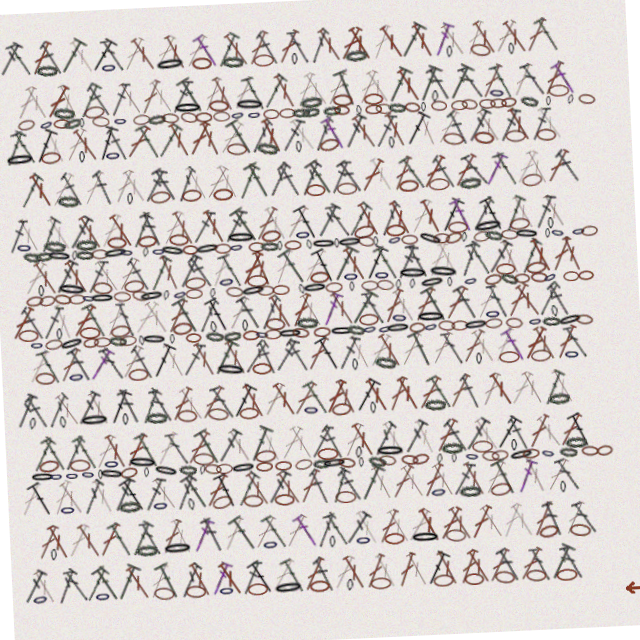chain: (477, 226, 508, 242), (58, 270, 89, 286), (421, 235, 447, 253), (167, 50, 198, 65), (430, 270, 461, 285), (213, 358, 244, 373), (13, 139, 43, 153), (121, 447, 151, 461), (261, 579, 291, 593), (58, 324, 84, 340), (245, 95, 275, 108), (400, 271, 430, 284), (557, 324, 583, 339), (75, 403, 105, 416), (146, 456, 172, 471), (152, 535, 182, 548), (203, 489, 225, 506), (264, 138, 287, 154), (357, 226, 380, 242), (163, 237, 189, 251), (502, 457, 528, 471), (183, 96, 213, 108), (230, 228, 260, 240), (416, 316, 446, 328), (369, 448, 399, 460), (400, 536, 430, 548), (482, 50, 504, 66), (528, 534, 550, 550), (372, 358, 395, 373), (106, 237, 132, 250), (198, 237, 224, 250), (242, 281, 268, 294), (421, 281, 447, 294), (327, 138, 349, 153), (451, 138, 473, 153), (203, 402, 225, 417), (482, 490, 504, 505), (357, 50, 380, 64), (310, 95, 333, 109), (465, 183, 488, 197), (47, 227, 70, 241), (482, 138, 503, 153), (32, 446, 53, 461), (482, 578, 503, 593), (140, 282, 166, 294), (559, 535, 581, 549), (50, 238, 75, 250), (501, 280, 521, 295), (463, 326, 488, 338), (92, 458, 117, 470), (224, 458, 249, 470), (94, 95, 115, 109), (156, 183, 177, 197), (528, 183, 549, 197), (265, 227, 286, 241), (94, 271, 115, 285), (528, 271, 549, 285), (110, 315, 131, 329), (172, 315, 193, 329), (265, 315, 286, 329), (327, 403, 348, 417), (141, 579, 162, 593), (63, 95, 85, 108), (63, 183, 85, 196), (544, 403, 566, 416), (110, 491, 132, 504), (72, 105, 92, 119), (341, 238, 366, 249), (518, 238, 543, 249), (304, 282, 329, 293), (141, 326, 166, 337), (385, 326, 410, 337), (315, 458, 340, 469), (141, 227, 162, 240), (187, 271, 208, 284), (187, 447, 208, 460), (249, 447, 270, 460), (435, 535, 456, 548), (448, 237, 467, 251), (361, 457, 380, 471), (48, 52, 70, 64), (234, 52, 256, 64), (79, 228, 101, 240), (296, 316, 318, 328), (141, 404, 163, 416), (420, 404, 442, 416), (435, 448, 457, 460), (559, 448, 581, 460), (451, 492, 473, 504), (125, 536, 147, 548), (219, 95, 239, 108), (343, 95, 363, 108), (49, 139, 69, 152), (235, 139, 255, 152), (514, 139, 534, 152), (545, 139, 565, 152), (188, 183, 208, 196), (111, 227, 131, 240), (173, 227, 193, 240), (514, 227, 534, 240), (126, 271, 146, 284), (312, 271, 332, 284), (33, 359, 53, 372), (173, 403, 193, 416), (235, 491, 255, 504), (173, 579, 193, 592), (514, 579, 534, 592), (559, 96, 580, 108), (435, 184, 456, 196), (249, 272, 270, 284), (79, 316, 100, 328), (497, 360, 518, 372), (63, 448, 84, 460), (311, 448, 332, 460), (466, 448, 487, 460), (327, 492, 348, 504), (358, 580, 379, 592), (544, 580, 565, 592), (315, 239, 340, 249), (91, 283, 116, 293), (277, 327, 302, 337), (329, 327, 354, 337), (23, 459, 48, 469), (530, 105, 549, 118), (488, 237, 507, 250), (346, 325, 365, 338), (204, 52, 224, 64), (266, 52, 286, 64), (374, 96, 394, 108), (219, 184, 239, 196), (312, 184, 332, 196), (343, 184, 363, 196), (405, 184, 425, 196), (390, 228, 410, 240), (452, 228, 472, 240), (498, 272, 518, 284), (18, 316, 38, 328), (359, 316, 379, 328), (126, 360, 146, 372), (250, 360, 270, 372), (529, 360, 549, 372), (235, 404, 255, 416), (266, 492, 286, 504), (374, 536, 394, 548), (235, 580, 255, 592), (297, 580, 317, 592), (421, 580, 441, 592), (452, 580, 472, 592), (19, 579, 36, 593), (27, 105, 45, 118), (190, 105, 208, 118), (361, 237, 379, 250), (55, 281, 73, 294), (133, 281, 151, 294), (486, 281, 504, 294), (113, 457, 131, 470), (288, 457, 306, 470), (372, 457, 390, 470), (405, 457, 423, 470), (157, 106, 176, 118), (311, 106, 330, 118), (26, 238, 45, 250), (222, 326, 241, 338), (48, 105, 64, 119), (544, 281, 560, 295), (499, 95, 516, 108), (471, 105, 488, 118), (220, 271, 237, 284), (391, 315, 408, 328), (422, 491, 439, 504), (385, 106, 403, 118), (588, 106, 606, 118), (477, 238, 495, 250), (27, 282, 45, 294), (227, 282, 245, 294), (378, 282, 396, 294), (44, 326, 62, 338), (291, 326, 309, 338), (505, 326, 523, 338), (575, 326, 593, 338), (197, 458, 215, 470), (331, 458, 349, 470), (394, 458, 412, 470), (475, 458, 493, 470), (66, 359, 82, 372), (299, 403, 315, 416), (414, 106, 431, 118), (40, 282, 57, 294), (82, 326, 99, 338), (171, 106, 189, 117), (333, 106, 351, 117), (398, 106, 416, 117), (38, 238, 56, 249), (532, 282, 550, 293), (108, 326, 126, 337), (205, 326, 223, 337), (172, 458, 190, 469), (306, 458, 324, 469), (553, 458, 571, 469), (391, 237, 406, 250), (113, 52, 129, 64), (113, 140, 129, 152), (20, 228, 36, 240), (299, 228, 315, 240), (345, 272, 361, 284), (376, 272, 392, 284), (485, 316, 501, 328), (562, 360, 578, 372), (97, 448, 113, 460), (51, 492, 67, 504), (144, 492, 160, 504), (252, 536, 268, 548), (345, 536, 361, 548), (82, 580, 98, 592), (206, 580, 222, 592), (102, 106, 119, 117), (143, 106, 160, 117), (505, 238, 522, 249), (585, 238, 602, 249), (115, 282, 132, 293), (119, 326, 136, 337), (438, 326, 455, 337), (485, 326, 502, 337), (485, 458, 502, 469), (516, 458, 533, 469), (575, 458, 592, 469), (590, 458, 607, 469), (302, 107, 320, 117), (79, 239, 97, 249), (264, 239, 282, 249), (554, 238, 569, 250), (174, 282, 189, 294), (465, 282, 480, 294), (254, 326, 269, 338), (377, 326, 392, 338), (423, 326, 438, 338), (542, 327, 560, 337), (534, 458, 549, 470), (344, 106, 360, 117), (441, 106, 457, 117), (511, 106, 527, 117), (63, 107, 80, 117), (205, 107, 222, 117), (223, 107, 240, 117), (289, 107, 306, 117), (375, 107, 392, 117), (461, 107, 478, 117), (489, 107, 506, 117), (500, 107, 517, 117), (95, 239, 112, 249), (218, 239, 235, 249), (252, 239, 269, 249), (288, 239, 305, 249), (405, 239, 422, 249), (437, 239, 454, 249), (70, 283, 87, 293), (187, 283, 204, 293), (259, 283, 276, 293), (274, 283, 291, 293), (327, 283, 344, 293), (363, 283, 380, 293), (93, 327, 110, 337), (242, 327, 259, 337), (264, 327, 281, 337), (313, 327, 330, 337), (451, 327, 468, 337), (209, 459, 226, 469), (249, 459, 266, 469), (268, 459, 285, 469), (240, 106, 255, 117), (575, 238, 590, 249), (362, 326, 377, 337), (458, 458, 473, 469), (273, 107, 289, 117), (186, 239, 202, 249), (516, 283, 532, 293), (565, 283, 581, 293), (580, 283, 596, 293), (185, 327, 201, 337), (409, 327, 425, 337), (123, 238, 137, 249), (233, 238, 247, 249), (83, 282, 97, 293), (528, 326, 542, 337), (74, 458, 88, 469), (123, 107, 137, 117), (257, 107, 271, 117), (155, 239, 169, 249), (29, 327, 43, 337), (42, 459, 56, 469), (58, 459, 72, 469), (551, 316, 559, 328), (24, 404, 32, 416), (179, 492, 187, 504), (442, 96, 449, 108), (210, 316, 217, 328), (55, 404, 62, 416), (349, 448, 356, 460), (334, 580, 341, 592), (577, 106, 584, 117), (304, 52, 310, 64), (459, 52, 465, 64), (521, 52, 527, 64), (87, 140, 93, 152), (304, 140, 310, 152), (397, 140, 403, 152), (133, 184, 139, 196), (552, 228, 558, 240), (40, 272, 46, 284), (56, 316, 62, 328), (242, 316, 248, 328), (350, 360, 356, 372), (474, 360, 480, 372), (118, 404, 124, 416), (366, 404, 372, 416), (505, 448, 511, 460), (552, 492, 558, 504), (40, 536, 46, 548), (319, 536, 325, 548), (164, 283, 171, 293), (300, 283, 307, 293), (192, 459, 199, 469), (366, 107, 372, 117), (75, 239, 81, 249), (146, 239, 152, 249), (310, 239, 316, 249), (465, 239, 471, 249), (211, 283, 217, 293), (397, 283, 403, 293), (411, 283, 417, 293), (138, 327, 144, 337), (430, 459, 436, 469), (89, 107, 94, 117), (431, 107, 436, 117), (556, 107, 561, 117), (281, 239, 286, 249), (338, 239, 343, 249), (377, 239, 382, 249), (549, 239, 554, 249), (351, 283, 356, 293), (449, 283, 454, 293), (169, 327, 174, 337), (91, 459, 96, 469), (137, 459, 142, 469), (352, 459, 357, 469), (445, 459, 450, 469)
double: (69, 26, 101, 65), (311, 158, 343, 197), (234, 202, 266, 241), (280, 246, 312, 285), (172, 466, 204, 505), (218, 510, 250, 549), (79, 554, 111, 593), (100, 27, 132, 65), (348, 291, 380, 329), (486, 423, 518, 461), (410, 26, 441, 65), (187, 70, 218, 109), (456, 70, 487, 109), (234, 114, 265, 153), (332, 246, 363, 285), (172, 290, 203, 329), (208, 334, 239, 373), (348, 379, 379, 417), (110, 467, 141, 505), (234, 555, 265, 593), (395, 70, 425, 109), (250, 158, 280, 197), (421, 290, 451, 329), (188, 422, 218, 461), (349, 466, 379, 505), (535, 554, 565, 593), (162, 115, 193, 152), (411, 115, 441, 153), (312, 335, 342, 373), (225, 379, 255, 417), (18, 467, 48, 505), (426, 70, 455, 109), (240, 422, 269, 461), (483, 466, 512, 505), (101, 554, 130, 593), (142, 554, 171, 593), (349, 203, 379, 240), (297, 203, 326, 241), (442, 203, 471, 241), (364, 247, 393, 285), (204, 291, 233, 329), (147, 335, 176, 373), (411, 555, 440, 593), (406, 334, 434, 373), (132, 116, 162, 152), (225, 116, 255, 152), (297, 116, 327, 152), (132, 292, 162, 328), (514, 292, 544, 328), (529, 424, 559, 460), (333, 512, 363, 548), (18, 27, 47, 64), (271, 71, 300, 108), (23, 159, 52, 196), (405, 159, 434, 196), (23, 423, 52, 460), (250, 511, 279, 548), (70, 555, 99, 592), (40, 115, 68, 153), (484, 203, 512, 241), (313, 247, 341, 285), (102, 379, 130, 417), (561, 423, 589, 461), (344, 70, 371, 109), (142, 28, 171, 64), (235, 28, 264, 64), (452, 28, 481, 64), (514, 28, 543, 64), (54, 72, 83, 108), (80, 116, 109, 152), (359, 116, 388, 152), (545, 116, 574, 152), (209, 160, 238, 196), (343, 160, 372, 196), (95, 248, 124, 284), (488, 248, 517, 284), (70, 292, 99, 328), (85, 336, 114, 372), (49, 380, 78, 416), (173, 380, 202, 416), (287, 380, 316, 416), (504, 380, 533, 416), (178, 424, 207, 460), (209, 424, 238, 460), (457, 424, 486, 460), (467, 424, 496, 460), (49, 468, 78, 504), (142, 468, 171, 504), (395, 512, 424, 548), (204, 556, 233, 592), (9, 27, 37, 64), (81, 27, 109, 64), (164, 27, 192, 64), (195, 27, 223, 64), (205, 27, 233, 64), (226, 27, 254, 64), (329, 27, 357, 64), (350, 27, 378, 64), (391, 27, 419, 64), (484, 27, 512, 64), (505, 27, 533, 64), (546, 27, 574, 64), (86, 71, 114, 108), (127, 71, 155, 108), (158, 71, 186, 108), (313, 71, 341, 108), (375, 71, 403, 108), (406, 71, 434, 108), (561, 71, 589, 108), (19, 115, 47, 152), (443, 115, 471, 152), (474, 115, 502, 152), (484, 115, 512, 152), (127, 159, 155, 196), (158, 159, 186, 196), (427, 159, 455, 196), (458, 159, 486, 196), (499, 159, 527, 196), (520, 159, 548, 196), (551, 159, 579, 196), (50, 203, 78, 240), (81, 203, 109, 240), (112, 203, 140, 240), (257, 203, 285, 240), (288, 203, 316, 240), (319, 203, 347, 240), (412, 203, 440, 240), (24, 247, 52, 284), (34, 247, 62, 284), (65, 247, 93, 284), (117, 247, 145, 284), (148, 247, 176, 284), (241, 247, 269, 284), (303, 247, 331, 284), (468, 247, 496, 284), (9, 291, 37, 328), (143, 291, 171, 328), (236, 291, 264, 328), (267, 291, 295, 328), (329, 291, 357, 328), (443, 291, 471, 328), (453, 291, 481, 328), (117, 335, 145, 372), (365, 335, 393, 372), (458, 335, 486, 372), (468, 335, 496, 372), (520, 335, 548, 372), (195, 379, 223, 416), (257, 379, 285, 416), (267, 379, 295, 416), (298, 379, 326, 416), (422, 379, 450, 416), (484, 379, 512, 416), (65, 423, 93, 460), (220, 423, 248, 460), (272, 423, 300, 460), (396, 423, 424, 460), (427, 423, 455, 460), (551, 423, 579, 460), (195, 467, 223, 504), (226, 467, 254, 504), (236, 467, 264, 504), (257, 467, 285, 504), (381, 467, 409, 504), (391, 467, 419, 504), (536, 467, 564, 504), (65, 511, 93, 548), (117, 511, 145, 548), (241, 511, 269, 548), (272, 511, 300, 548), (282, 511, 310, 548), (313, 511, 341, 548), (427, 511, 455, 548), (437, 511, 465, 548), (468, 511, 496, 548), (499, 511, 527, 548), (257, 555, 285, 592), (453, 555, 481, 592), (505, 555, 533, 592), (143, 115, 170, 153), (241, 159, 268, 197), (133, 203, 160, 241), (220, 247, 247, 285), (375, 247, 402, 285), (520, 247, 547, 285), (81, 291, 108, 329), (34, 335, 61, 373), (536, 379, 563, 417), (127, 423, 154, 461), (205, 467, 232, 505), (96, 511, 123, 549), (267, 555, 294, 593), (55, 160, 83, 196), (365, 160, 393, 196), (71, 204, 99, 240), (412, 380, 440, 416), (267, 468, 295, 504), (112, 556, 140, 592), (133, 27, 160, 64), (288, 27, 315, 64), (360, 27, 387, 64), (536, 27, 563, 64), (24, 71, 51, 108), (34, 71, 61, 108), (241, 71, 268, 108), (334, 71, 361, 108), (437, 71, 464, 108), (71, 115, 98, 152), (195, 115, 222, 152), (329, 115, 356, 152), (515, 115, 542, 152), (34, 159, 61, 196), (375, 159, 402, 196), (489, 159, 516, 196), (102, 203, 129, 240), (164, 203, 191, 240), (267, 203, 294, 240), (360, 203, 387, 240), (515, 203, 542, 240), (546, 203, 573, 240), (55, 247, 82, 284), (179, 247, 206, 284), (344, 247, 371, 284), (226, 291, 253, 328), (298, 291, 325, 328), (391, 291, 418, 328), (412, 291, 439, 328), (474, 291, 501, 328), (505, 291, 532, 328), (24, 335, 51, 372), (55, 335, 82, 372), (65, 335, 92, 372), (303, 335, 330, 372), (375, 335, 402, 372), (396, 335, 423, 372), (427, 335, 454, 372), (499, 335, 526, 372), (530, 335, 557, 372), (71, 379, 98, 416), (319, 379, 346, 416), (360, 379, 387, 416), (391, 379, 418, 416), (443, 379, 470, 416), (546, 379, 573, 416), (34, 423, 61, 460), (86, 423, 113, 460), (117, 423, 144, 460), (148, 423, 175, 460), (282, 423, 309, 460), (344, 423, 371, 460), (375, 423, 402, 460), (520, 423, 547, 460), (422, 467, 449, 504), (474, 467, 501, 504), (55, 511, 82, 548), (86, 511, 113, 548), (344, 511, 371, 548), (375, 511, 402, 548), (458, 511, 485, 548), (9, 555, 36, 592), (19, 555, 46, 592), (319, 555, 346, 592), (329, 555, 356, 592), (474, 555, 501, 592), (484, 555, 511, 592), (252, 71, 278, 109), (500, 71, 526, 109), (10, 115, 36, 153), (103, 115, 129, 153), (41, 203, 67, 241), (506, 203, 532, 241), (134, 379, 160, 417), (468, 160, 496, 195), (561, 160, 589, 195), (189, 248, 217, 283), (41, 27, 67, 64), (175, 27, 201, 64), (258, 27, 284, 64), (423, 27, 449, 64), (221, 71, 247, 108), (283, 71, 309, 108), (366, 71, 392, 108), (490, 71, 516, 108), (521, 71, 547, 108), (552, 71, 578, 108), (175, 115, 201, 152), (351, 115, 377, 152), (87, 159, 113, 196), (118, 159, 144, 196), (190, 159, 216, 196), (221, 159, 247, 196), (531, 159, 557, 196), (20, 203, 46, 240), (175, 203, 201, 240), (206, 203, 232, 240), (392, 203, 418, 240), (428, 247, 454, 284), (438, 247, 464, 284), (531, 247, 557, 284), (165, 291, 191, 328), (289, 291, 315, 328), (159, 335, 185, 372), (190, 335, 216, 372), (221, 335, 247, 372), (345, 335, 371, 372), (490, 335, 516, 372), (552, 335, 578, 372), (82, 379, 108, 416), (113, 379, 139, 416), (165, 379, 191, 416), (237, 379, 263, 416), (475, 379, 501, 416), (516, 379, 542, 416), (97, 423, 123, 460), (335, 423, 361, 460), (10, 467, 36, 504), (82, 467, 108, 504), (103, 467, 129, 504), (289, 467, 315, 504), (361, 467, 387, 504), (413, 467, 439, 504), (454, 467, 480, 504), (25, 511, 51, 548), (35, 511, 61, 548), (149, 511, 175, 548), (180, 511, 206, 548), (190, 511, 216, 548), (211, 511, 237, 548), (366, 511, 392, 548), (407, 511, 433, 548), (552, 511, 578, 548), (175, 555, 201, 592), (196, 555, 222, 592), (289, 555, 315, 592), (361, 555, 387, 592), (392, 555, 418, 592), (423, 555, 449, 592), (241, 337, 269, 371), (320, 467, 345, 505), (96, 72, 123, 107), (272, 160, 299, 195), (272, 336, 299, 371), (365, 424, 392, 459), (437, 424, 464, 459), (329, 468, 356, 503), (469, 72, 495, 108), (531, 72, 557, 108), (289, 116, 315, 152), (149, 160, 175, 196), (283, 160, 309, 196), (304, 160, 330, 196), (227, 204, 253, 240), (97, 336, 123, 372), (20, 380, 46, 416), (547, 468, 573, 504), (562, 512, 588, 548), (165, 556, 191, 592), (382, 27, 407, 64), (444, 27, 469, 64), (66, 71, 91, 108), (149, 71, 174, 108), (211, 71, 236, 108), (304, 71, 329, 108), (268, 115, 293, 152), (392, 115, 417, 152), (397, 159, 422, 196), (144, 203, 169, 240), (423, 203, 448, 240), (454, 203, 479, 240), (211, 247, 236, 284), (552, 247, 577, 284), (103, 291, 128, 328), (320, 291, 345, 328), (382, 291, 407, 328), (10, 379, 35, 416), (330, 379, 355, 416), (382, 379, 407, 416), (252, 423, 277, 460), (407, 423, 432, 460), (516, 467, 541, 504), (159, 511, 184, 548), (490, 511, 515, 548), (521, 511, 546, 548), (134, 555, 159, 592), (351, 555, 376, 592), (51, 28, 77, 63), (438, 160, 464, 195), (330, 204, 356, 239), (475, 204, 501, 239), (128, 248, 154, 283), (20, 292, 46, 327), (537, 292, 563, 327), (283, 336, 309, 371), (51, 556, 77, 591), (547, 292, 572, 328), (335, 336, 360, 372), (206, 380, 231, 416), (72, 468, 97, 504), (165, 468, 190, 504), (476, 27, 500, 64), (52, 115, 76, 152), (207, 115, 231, 152), (160, 247, 184, 284), (274, 247, 298, 284), (501, 247, 525, 284), (563, 247, 587, 284), (42, 467, 66, 504), (507, 467, 531, 504), (532, 511, 556, 548), (383, 555, 407, 592), (445, 555, 469, 592), (113, 28, 138, 63), (268, 28, 293, 63), (258, 116, 283, 151), (66, 160, 91, 195), (196, 204, 221, 239), (128, 336, 153, 371), (180, 336, 205, 371), (562, 336, 587, 371), (56, 424, 81, 459), (159, 424, 184, 459), (304, 424, 329, 459), (444, 468, 469, 503), (181, 72, 205, 108), (114, 116, 138, 152), (383, 116, 407, 152), (455, 116, 479, 152), (507, 116, 531, 152), (383, 204, 407, 240), (538, 204, 562, 240), (88, 248, 112, 284), (398, 248, 422, 284), (460, 248, 484, 284), (197, 292, 221, 328), (259, 292, 283, 328), (362, 292, 386, 328), (439, 336, 463, 372), (42, 380, 66, 416), (145, 380, 169, 416), (315, 424, 339, 460), (501, 424, 525, 460), (135, 468, 159, 504), (42, 556, 66, 592), (300, 556, 324, 592), (548, 556, 572, 592), (424, 115, 447, 152), (98, 159, 121, 196), (253, 247, 276, 284), (408, 247, 431, 284), (52, 291, 75, 328), (300, 28, 323, 64), (321, 28, 344, 64), (321, 116, 344, 152), (336, 160, 359, 196), (42, 292, 65, 328), (455, 380, 478, 416), (300, 468, 323, 504), (129, 512, 152, 548), (305, 512, 328, 548), (517, 556, 540, 592), (487, 291, 509, 328), (120, 72, 142, 108), (539, 116, 561, 152), (182, 160, 204, 196), (254, 336, 276, 372), (229, 556, 251, 592), (12, 204, 33, 240), (116, 292, 136, 328)
noise: (610, 596, 640, 608)
